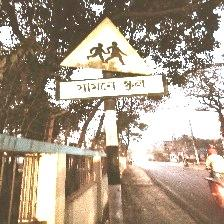School-in-front: (57, 16, 162, 102)
